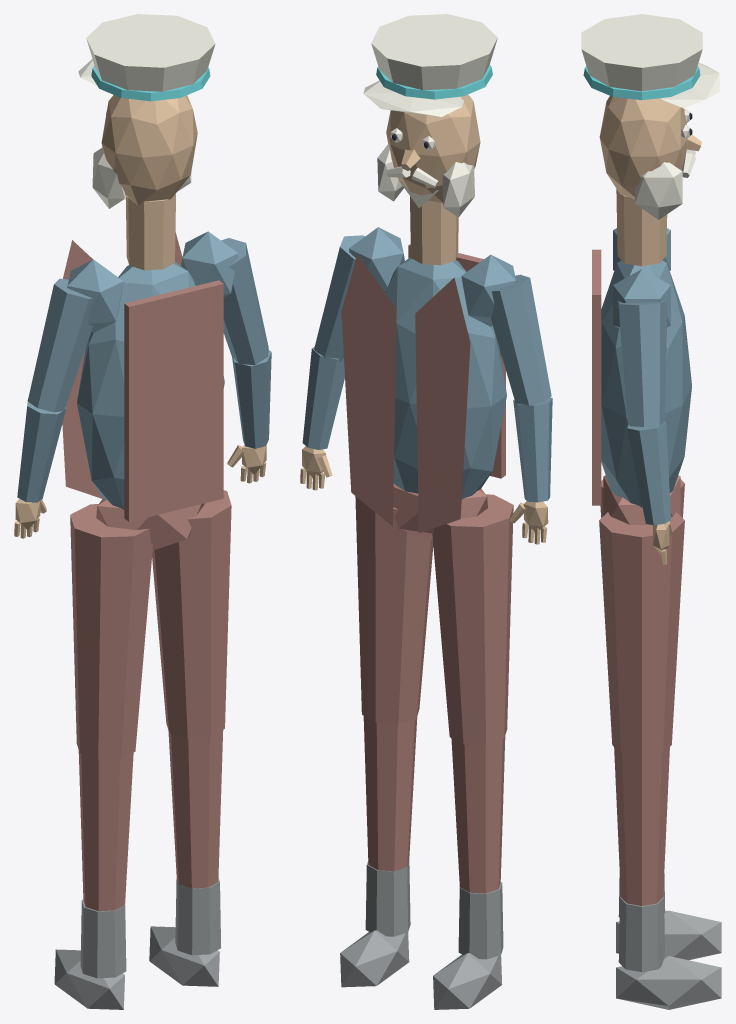
File: OutfitSwampMan.fbx
3 renders of one model, left to right at view 1: azimuth 30°, elevation 25°; view 2: azimuth 150°, elevation 25°; view 3: azimuth 270°, elevation 25°, orthographic. The views are drawn at different scales.
Visible parts, largest first — view 1: VestBack, ThighLeft, ThighRight, Torso, Face, HatCrown, CalfLeft, CalfRight, SleeveLeft, SleeveRight, Neck, BootTopLeft (+12 smaller); view 2: ThighLeft, ThighRight, Torso, VestFront, VestFront.001, HatCrown, CalfLeft, CalfRight, Face, SleeveLeft, ForearmSleeveLeft, FootRight (+15 smaller); view 3: ThighRight, Torso, HatCrown, CalfRight, Face, SleeveRight, FootRight, ForearmSleeveRight, BootTopRight, Neck, VestBack, FootLeft (+7 smaller).
Part boxes in pixels (left/top/right/bottom): VestBack: left=124, top=280, right=223, bottom=521; ThighLeft: left=70, top=504, right=152, bottom=759; ThighRight: left=152, top=490, right=231, bottom=738; Torso: left=77, top=262, right=224, bottom=509; Face: left=101, top=95, right=197, bottom=205; HatCrown: left=86, top=14, right=215, bottom=91; CalfLeft: left=78, top=750, right=133, bottom=911; CalfRight: left=168, top=730, right=223, bottom=888; SleeveLeft: left=27, top=278, right=92, bottom=412; SleeveRight: left=221, top=238, right=268, bottom=365; Neck: left=125, top=193, right=175, bottom=270; BootTopLeft: left=80, top=899, right=126, bottom=978; ThighLeft: left=432, top=494, right=513, bottom=744; ThighRight: left=355, top=496, right=433, bottom=724; Torso: left=385, top=257, right=506, bottom=499; VestFront: left=341, top=254, right=396, bottom=526; VestFront.001: left=415, top=277, right=470, bottom=532; HatCrown: left=371, top=14, right=497, bottom=90; CalfLeft: left=451, top=736, right=505, bottom=893; CalfRight: left=363, top=716, right=417, bottom=871; Face: left=386, top=94, right=480, bottom=203; SleeveLeft: left=490, top=274, right=551, bottom=405; ForearmSleeveLeft: left=513, top=397, right=552, bottom=502; FootRight: left=340, top=930, right=409, bottom=987; ThighRight: left=599, top=512, right=684, bottom=756; Torso: left=601, top=260, right=691, bottom=507; HatCrown: left=581, top=14, right=702, bottom=91; CalfRight: left=614, top=747, right=669, bottom=905; Face: left=599, top=96, right=686, bottom=199; SleeveRight: left=618, top=299, right=667, bottom=426; FootRight: left=616, top=956, right=721, bottom=1009; ForearmSleeveRight: left=627, top=422, right=670, bottom=525; BootTopRight: left=618, top=897, right=665, bottom=972; Neck: left=616, top=189, right=667, bottom=266; VestBack: left=592, top=249, right=601, bottom=505; FootLeft: left=616, top=910, right=721, bottom=960.
Bounding box in the file's own units: 0.4765 × 1.75 × 0.2351.
